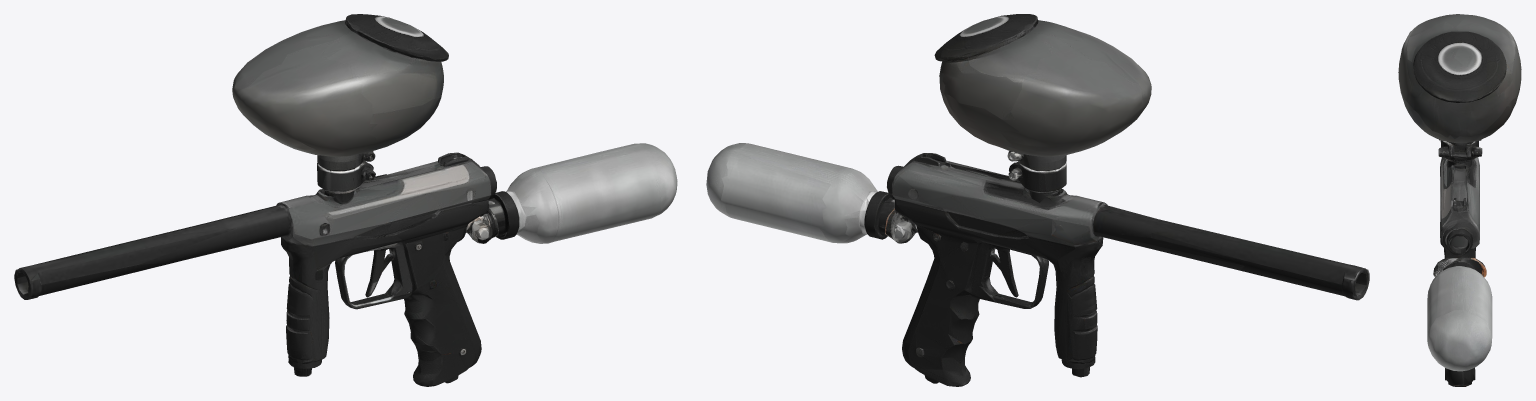
The model's file is marker.glb.
3 views of the same model, side by side, from view 1: azimuth 30°, elevation 25°; view 2: azimuth 150°, elevation 25°; view 3: azimuth 270°, elevation 25° (orthographic). The views are drawn at different scales.
Visible parts, largest first — view 1: Placed; view 2: Placed; view 3: Placed.
Part boxes in pixels (x1,y1,x2,y2): Placed: (14,14,677,386); Placed: (706,14,1369,386); Placed: (1398,14,1521,386).
Bounding box in the file's own units: 0.6988 × 0.387 × 0.1358.
1 material, 1 textured.
